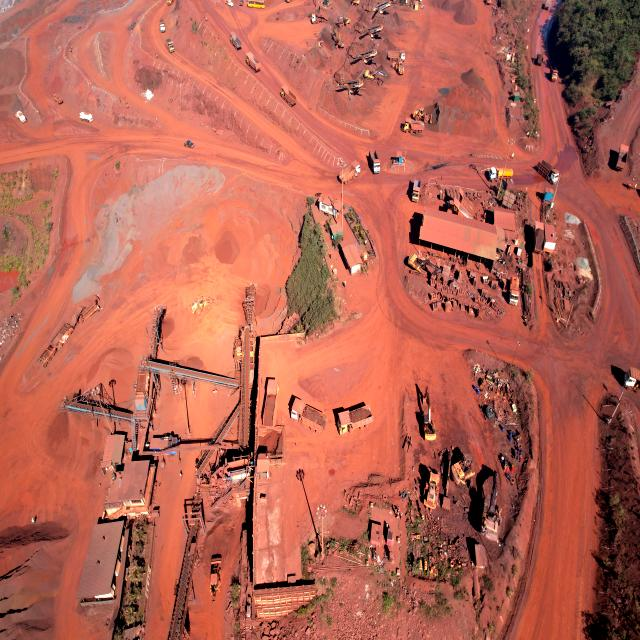Dumper truck: (290, 398, 328, 431), (334, 404, 373, 434), (334, 403, 372, 433), (265, 376, 280, 424), (457, 186, 476, 221), (340, 159, 360, 184), (537, 161, 560, 182), (623, 366, 640, 393), (450, 199, 474, 218), (369, 148, 382, 174), (245, 50, 260, 72), (312, 6, 328, 24), (617, 144, 628, 168), (402, 120, 422, 132), (412, 177, 421, 202), (388, 50, 406, 62), (230, 31, 241, 50), (280, 85, 294, 99), (191, 300, 207, 310), (550, 66, 558, 82), (536, 51, 544, 65), (544, 0, 550, 10)
Excavator: (481, 470, 502, 541), (443, 448, 459, 508), (422, 387, 436, 440), (408, 256, 441, 274), (454, 454, 468, 484), (332, 22, 346, 49), (364, 68, 387, 82), (510, 93, 523, 106), (338, 15, 351, 28), (362, 52, 376, 64)
car: (184, 139, 194, 147), (159, 22, 166, 33)
person: (31, 514, 37, 524)
